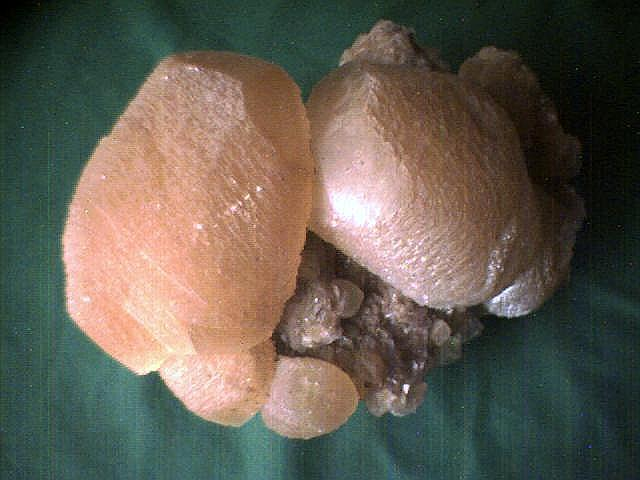calcite: (62, 51, 359, 439), (308, 61, 538, 309)
